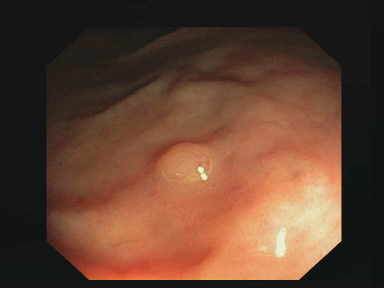polyp: (142, 138, 223, 199)
